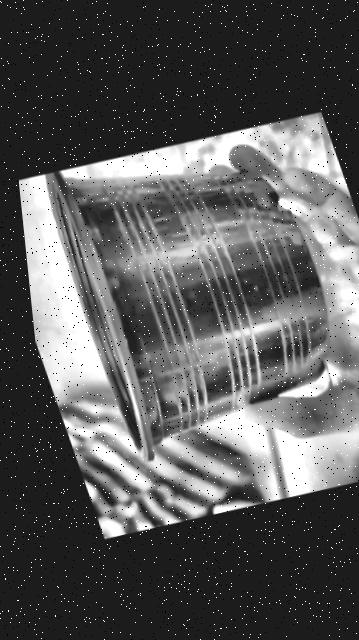pot: (46, 171, 327, 460)
